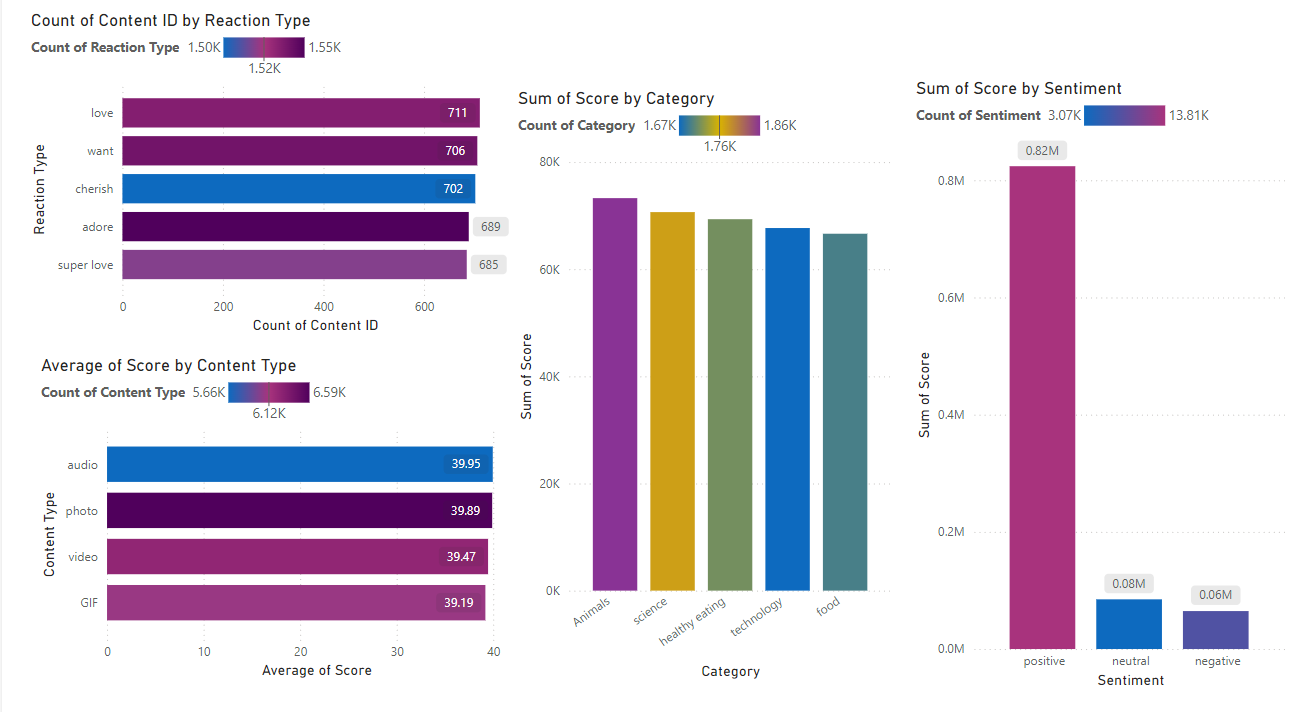

This screenshot's page, from the dashboard's own definition file:
{"tool":"powerbi","page":{"name":"Page 1","canvas":[1280,720],"ordinal":0},"visuals":[{"type":"barChart","fields":{"Category":["Reactions.Reaction Type"],"Y":["Count(Reactions.Content ID)"]},"box":[23.6,19.7,490.7,323.2],"z":0},{"type":"barChart","fields":{"Category":["Reactions.Content Type"],"Y":["Avg(Reactions.Score)"]},"box":[33.5,359.7,495.6,323.2],"z":1},{"type":"columnChart","fields":{"Category":["Reactions.Sentiment"],"Y":["Sum(Reactions.Score)"]},"box":[895.7,86.7,375.4,606],"z":2},{"type":"columnChart","fields":{"Category":["Reactions.Category"],"Y":["Sum(Reactions.Score)"]},"box":[503.5,96.6,378.4,587.3],"z":3}]}

Visuals, with their boxes in screenshot pixels (x1, y1, x2, y2), scaled from the page's 1280x720 canvas onto the 1294x712 screenshot:
barChart - Reactions.Reaction Type x Count(Reactions.Content ID): [24,19,520,339]
barChart - Reactions.Content Type x Avg(Reactions.Score): [34,356,535,675]
columnChart - Reactions.Sentiment x Sum(Reactions.Score): [905,86,1285,685]
columnChart - Reactions.Category x Sum(Reactions.Score): [509,96,892,676]
